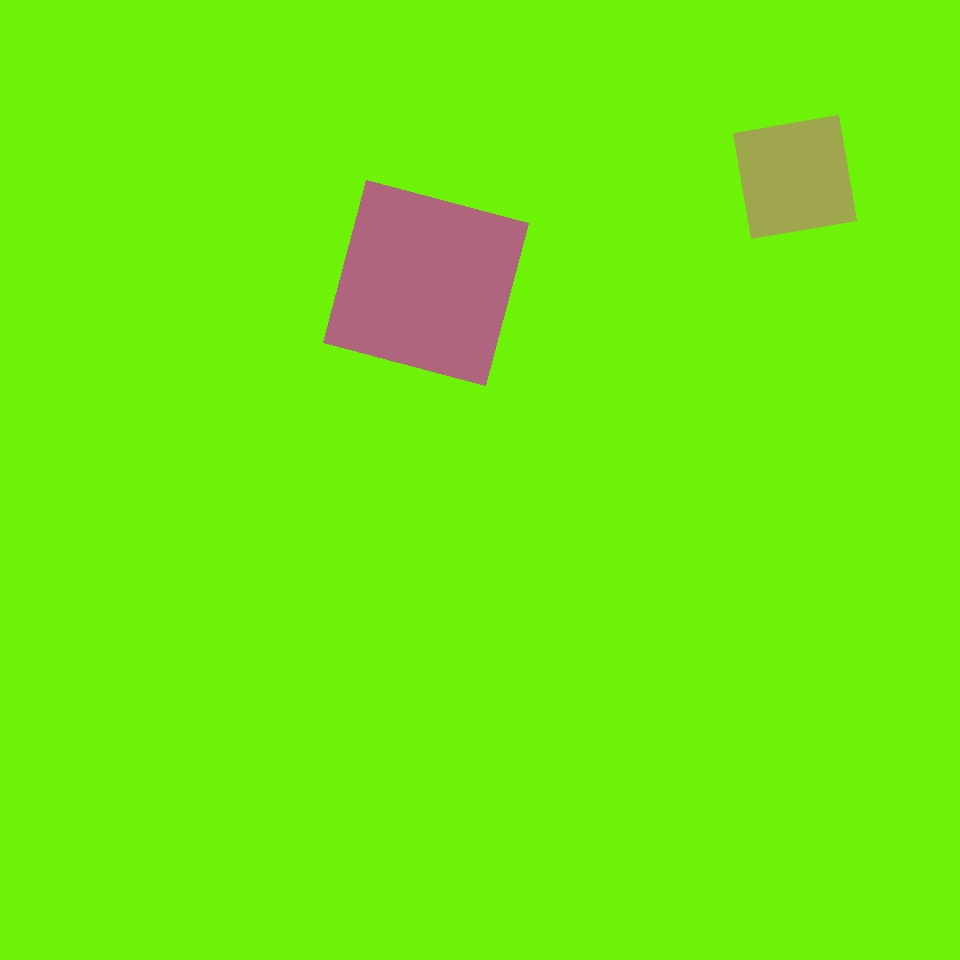circle: (260, 252, 562, 581), (284, 501, 457, 674)
square: (324, 181, 528, 386), (734, 116, 856, 238)
